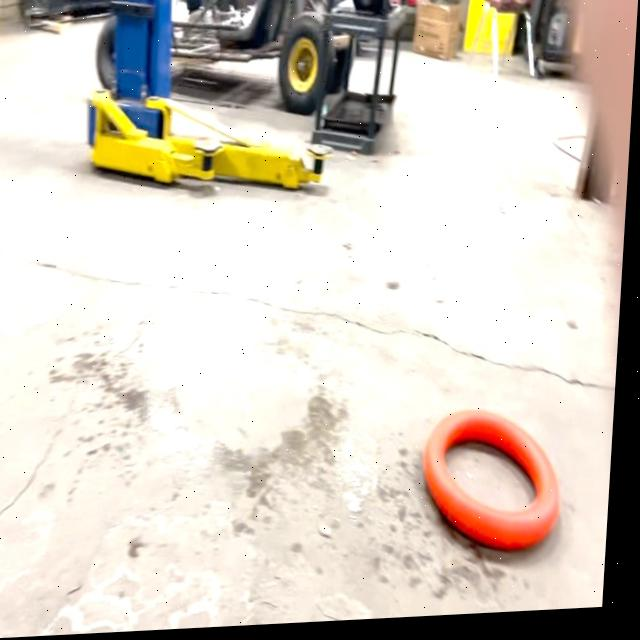note: (426, 403, 573, 564)
